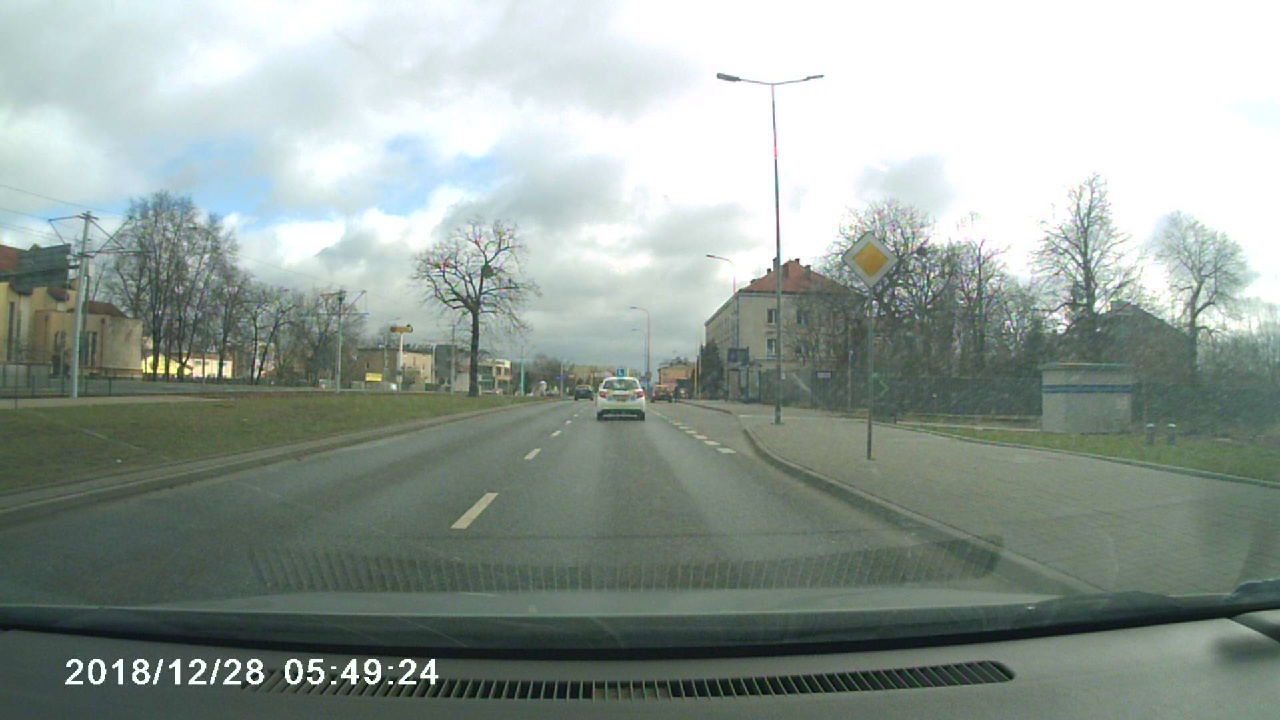D1: (842, 231, 897, 285)
